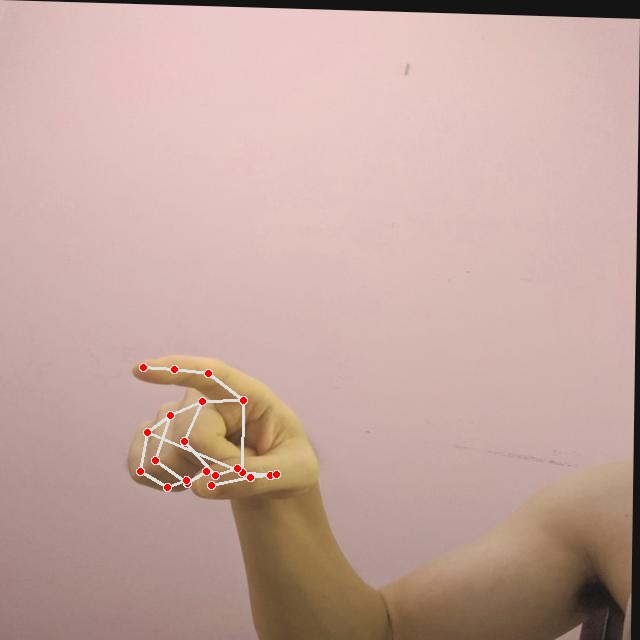Z: (115, 350, 330, 506)
